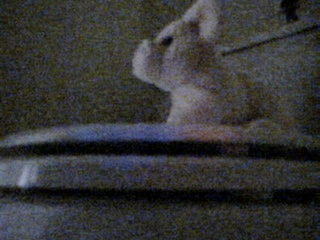piggy: (132, 1, 302, 132)
